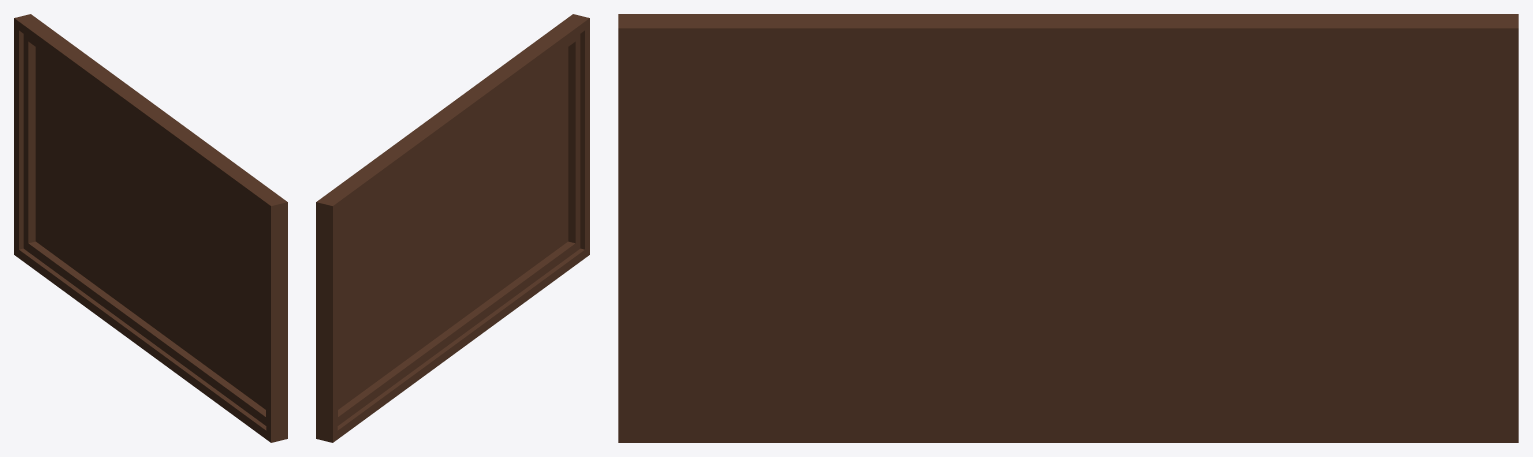
File: Painting1x2.fbx
3 views of the same model, side by side, from view 1: azimuth 30°, elevation 25°; view 2: azimuth 150°, elevation 25°; view 3: azimuth 270°, elevation 25° (orthographic). The views are drawn at different scales.
Parts seen in each view (by area): view 1: WidePainting; view 2: WidePainting; view 3: WidePainting.
Boxes of the visible parts, x1,y1,x2,y2 form: WidePainting: [14, 14, 287, 442]; WidePainting: [316, 14, 589, 442]; WidePainting: [618, 14, 1518, 442].
Size of the model in its own units: 14.77 by 200 by 393.
